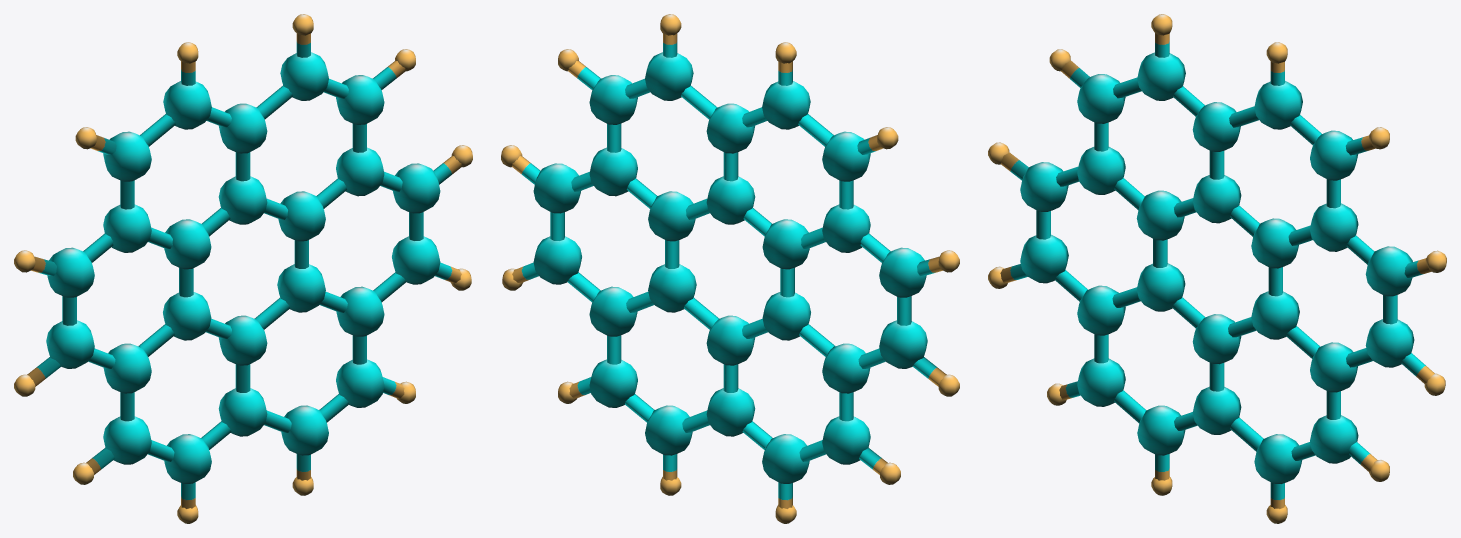
File: Coronene.dae
3 views of the same model, side by side, from view 1: azimuth 30°, elevation 25°; view 2: azimuth 150°, elevation 25°; view 3: azimuth 330°, elevation 25° (orthographic).
Visible parts, largest first — view 1: polySurface407; view 2: polySurface407; view 3: polySurface407.
Part boxes in pixels (x1,y1,x2,y2): polySurface407: (14, 14, 472, 523); polySurface407: (501, 14, 959, 523); polySurface407: (988, 14, 1446, 523).
Size of the model in its own units: 3.8 by 3.82 by 0.3641.
Materials: 1 (1 with a texture image).
